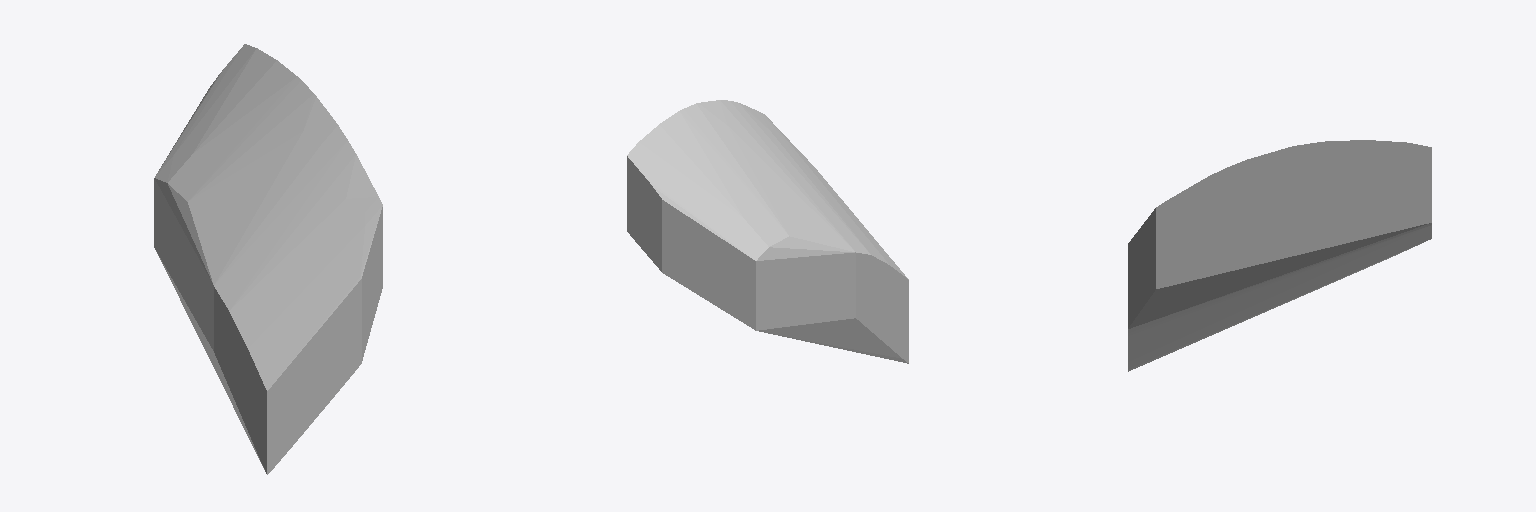
File: phantom-elastrat_collision_414.obj
3 views of the same model, side by side, from view 1: azimuth 30°, elevation 25°; view 2: azimuth 150°, elevation 25°; view 3: azimuth 270°, elevation 25° (orthographic).
Bounding box in the file's own units: 0.0043 × 0.0093 × 0.0087.